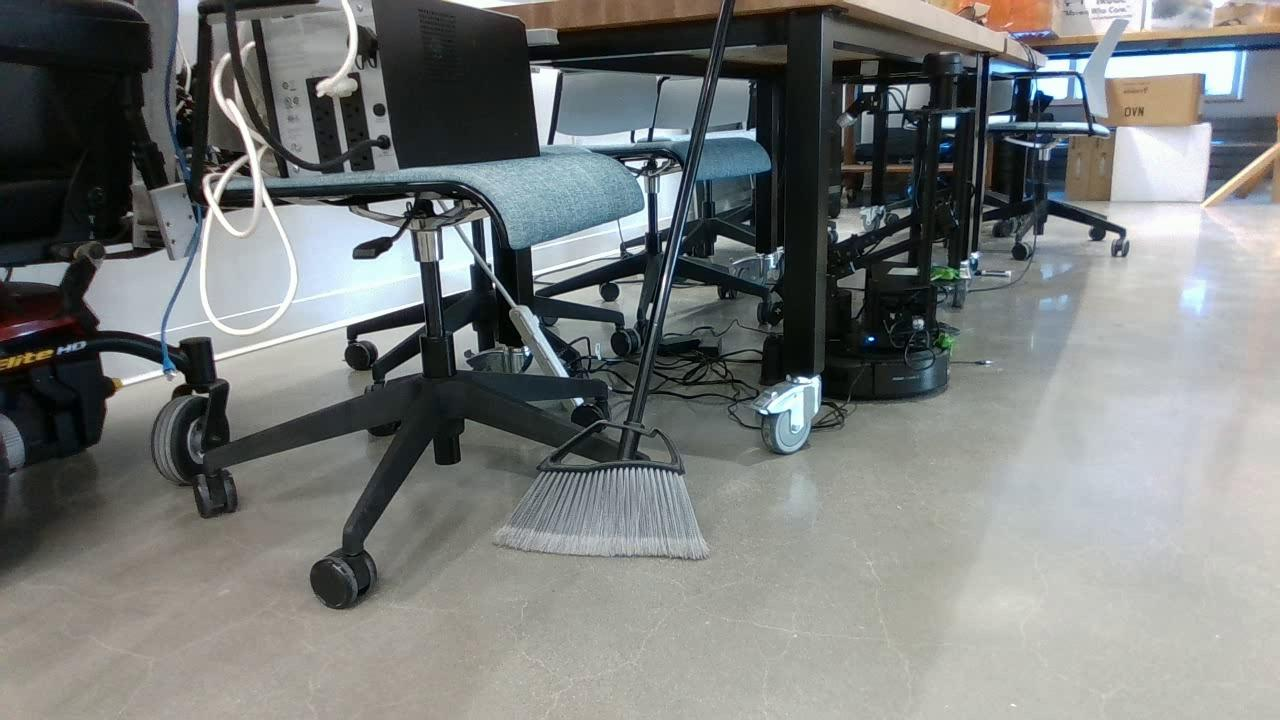grasshopper: (935, 328, 954, 356), (928, 266, 959, 282)
